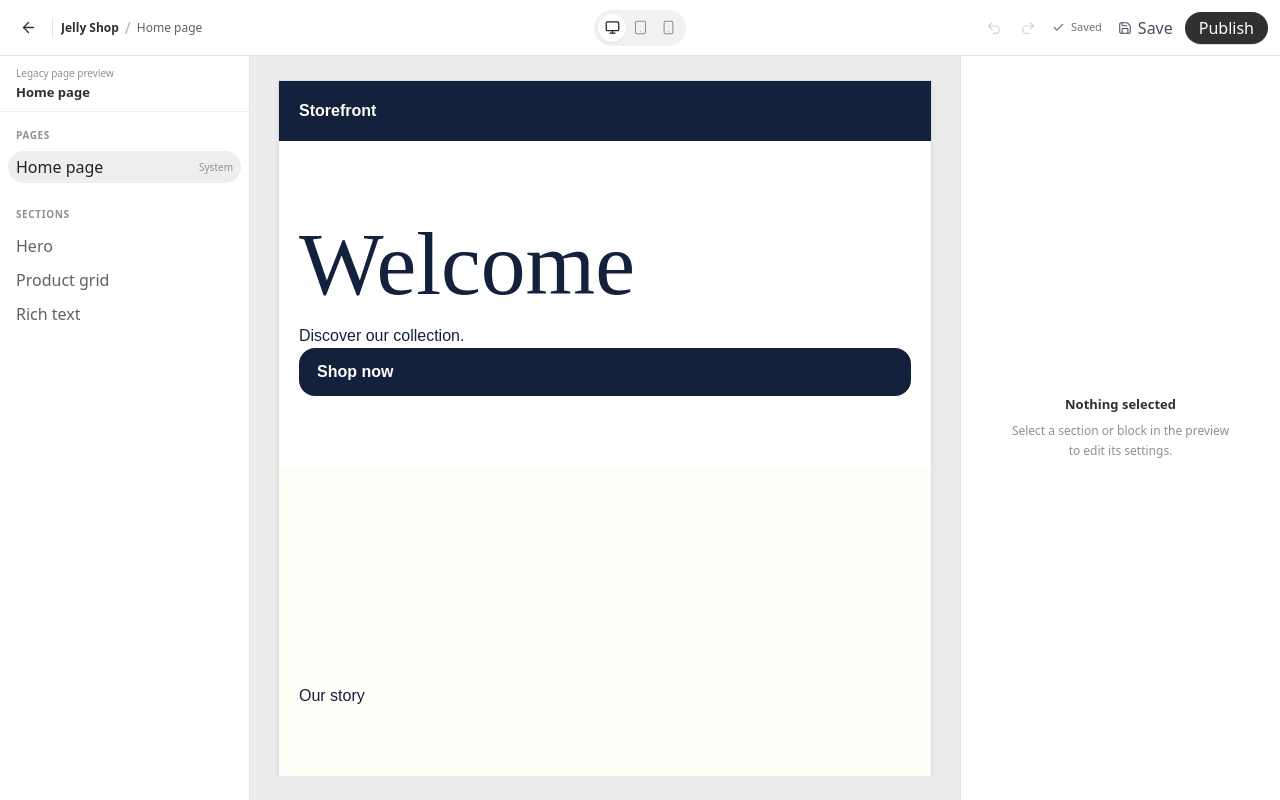
Test: editor shell › selects a preview heading by stable block id
The image size is (1280, 800).
Click the heading "Welcome": [467, 264] box x1=299 y1=214 x2=635 y2=313
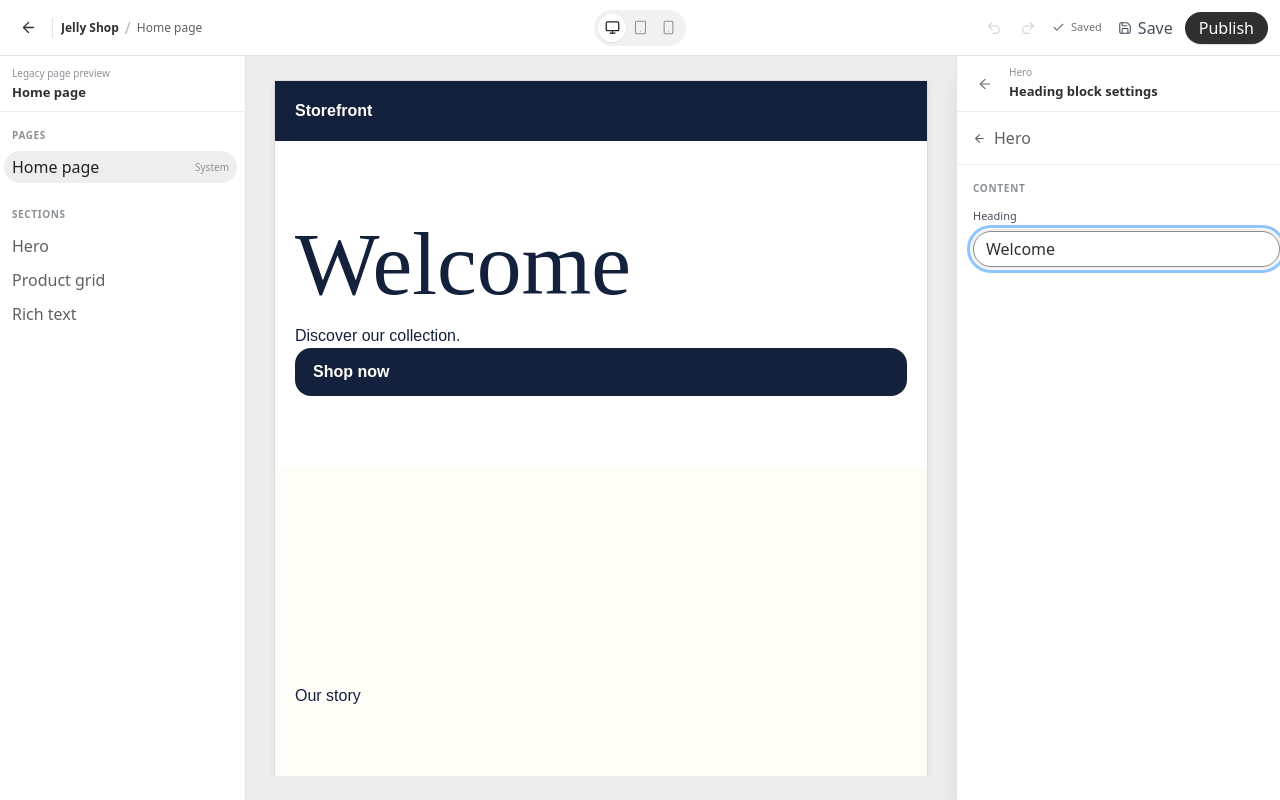
Result: the heading "Heading block settings" is shown at x1=1009 y1=82 x2=1158 y2=102
